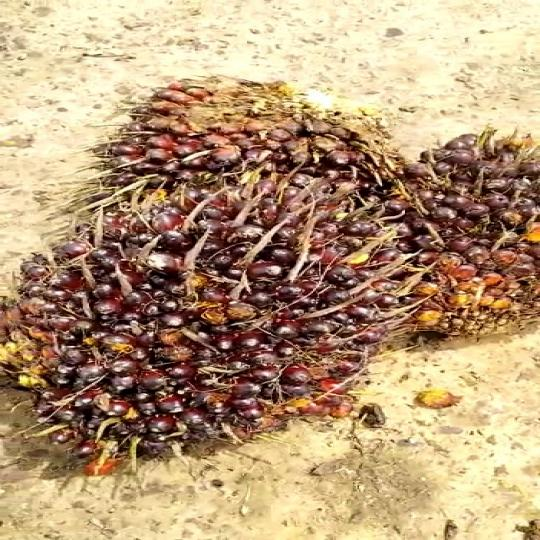kurang masak: (0, 176, 391, 465), (350, 132, 540, 346), (111, 75, 377, 224)
